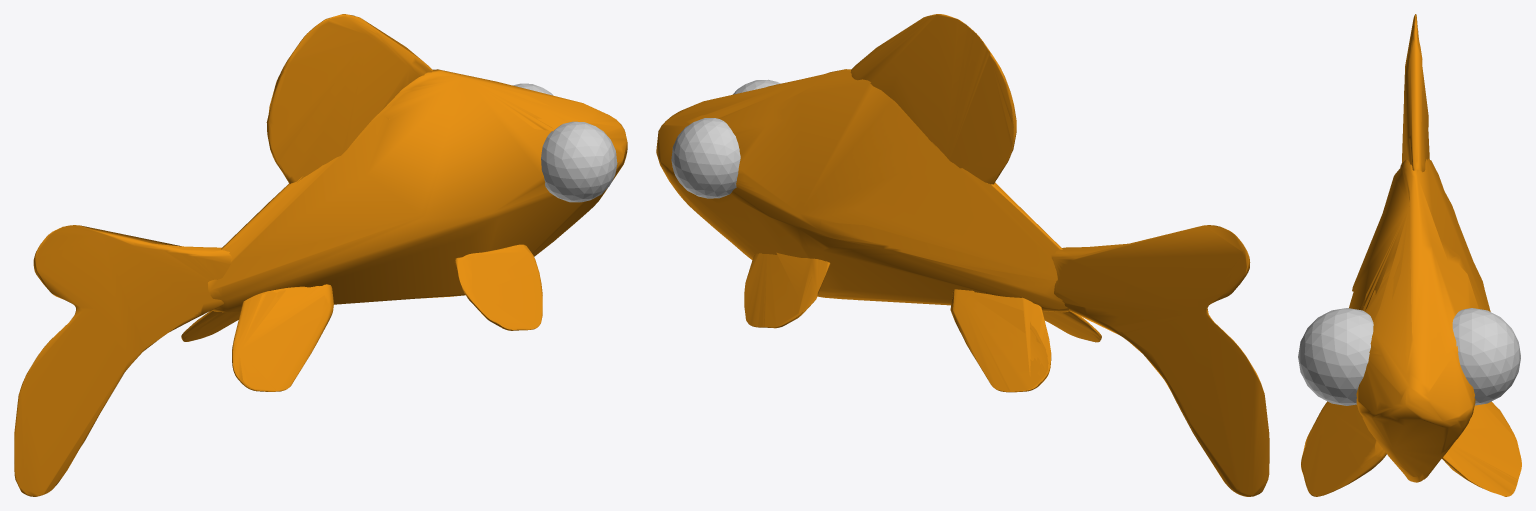
Rendered from Telescope.obj.
3 views of the same model, side by side, from view 1: azimuth 30°, elevation 25°; view 2: azimuth 150°, elevation 25°; view 3: azimuth 270°, elevation 25° (orthographic). The views are drawn at different scales.
Visible parts, largest first — view 1: Core, Eye; view 2: Core, Eye_2; view 3: Core, Eye, Eye_2.
Part boxes in pixels (x1,y1,x2,y2): Core: [14, 14, 627, 496]; Eye: [541, 121, 617, 202]; Core: [656, 14, 1269, 496]; Eye_2: [671, 118, 740, 198]; Core: [1301, 14, 1521, 496]; Eye: [1298, 308, 1373, 405]; Eye_2: [1452, 308, 1520, 405].
Bounding box in the file's own units: 5.77 × 3.7 × 1.53.
